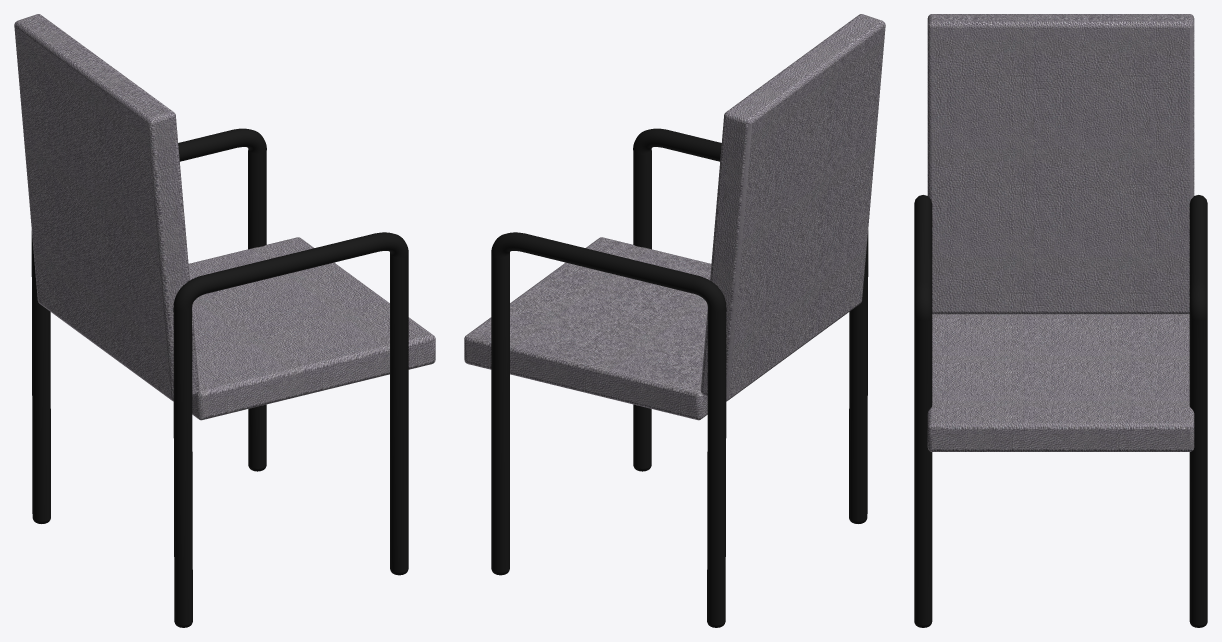
Rendered from Chair1.fbx.
The picture shows the model from 3 angles, left to right: view 1: azimuth 30°, elevation 25°; view 2: azimuth 150°, elevation 25°; view 3: azimuth 270°, elevation 25°; orthographic projection. The views are drawn at different scales.
Parts seen in each view (by area): view 1: Rugleuning, Zitvlak, Rechterpoot, Linkerpoot; view 2: Rugleuning, Zitvlak, Linkerpoot, Rechterpoot; view 3: Rugleuning, Zitvlak, Linkerpoot, Rechterpoot.
Part boxes in pixels (left/top/right/bottom): Rugleuning: left=14, top=14, right=199, bottom=401; Zitvlak: left=188, top=237, right=435, bottom=420; Rechterpoot: left=173, top=232, right=408, bottom=625; Linkerpoot: left=31, top=128, right=266, bottom=521; Rugleuning: left=700, top=14, right=885, bottom=401; Zitvlak: left=464, top=237, right=711, bottom=420; Linkerpoot: left=491, top=232, right=726, bottom=625; Rechterpoot: left=633, top=128, right=868, bottom=521; Rugleuning: left=927, top=14, right=1194, bottom=313; Zitvlak: left=927, top=314, right=1194, bottom=451; Linkerpoot: left=1189, top=195, right=1207, bottom=625; Rechterpoot: left=914, top=195, right=932, bottom=625.
Size of the model in its own units: 72.54 by 124 by 66.07.
3 materials, 2 textured.
